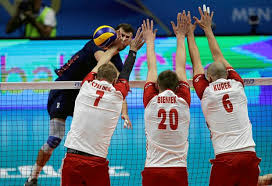ball: (93, 25, 117, 49)
